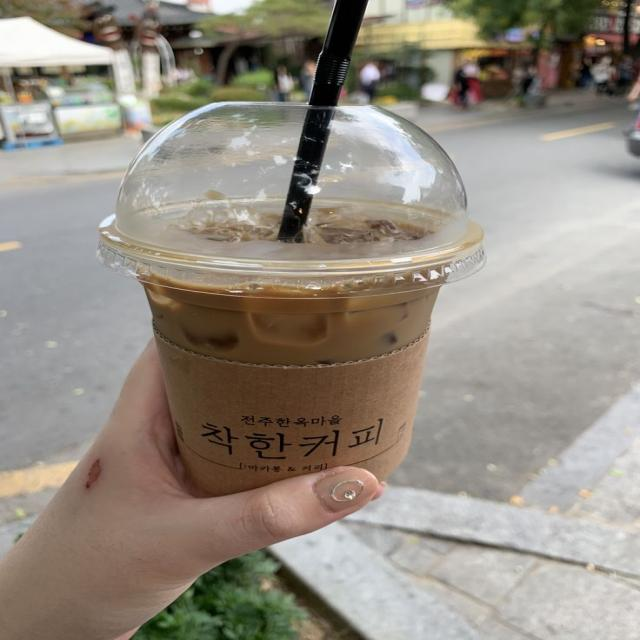plastic cup: (97, 102, 487, 504)
